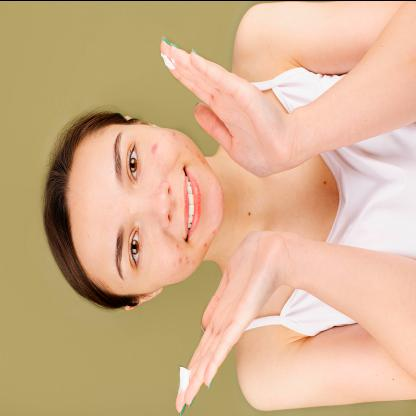Eye: (120, 140, 142, 188), (126, 224, 146, 272)
Mouth: (177, 163, 203, 245)
Nose: (137, 179, 175, 231)
